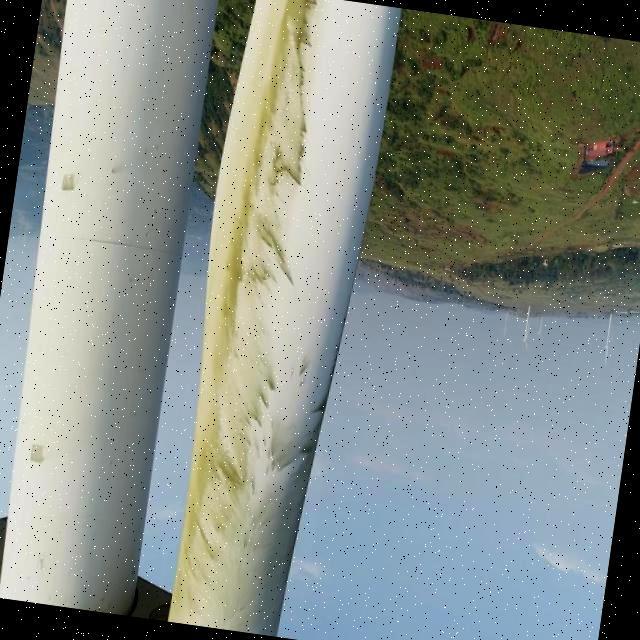Dirt: (169, 0, 342, 640)
